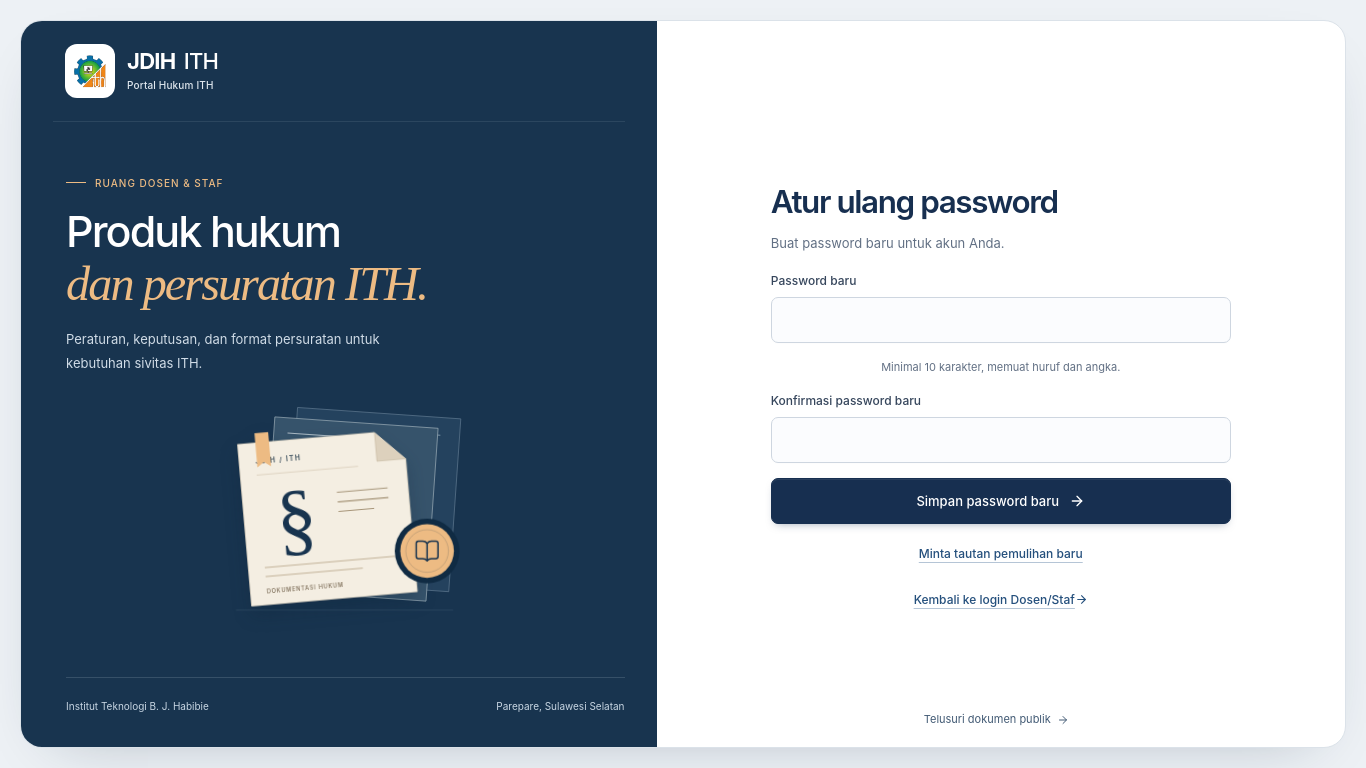
pemulihan password Dosen/Staf › konfirmasi tidak sama tidak mengirim permintaan dan galat server tetap ditampilkan
Type "PasswordBaru123" into the password field labelled "Password baru". click: [1001, 320]
box: [771,297,1231,343]
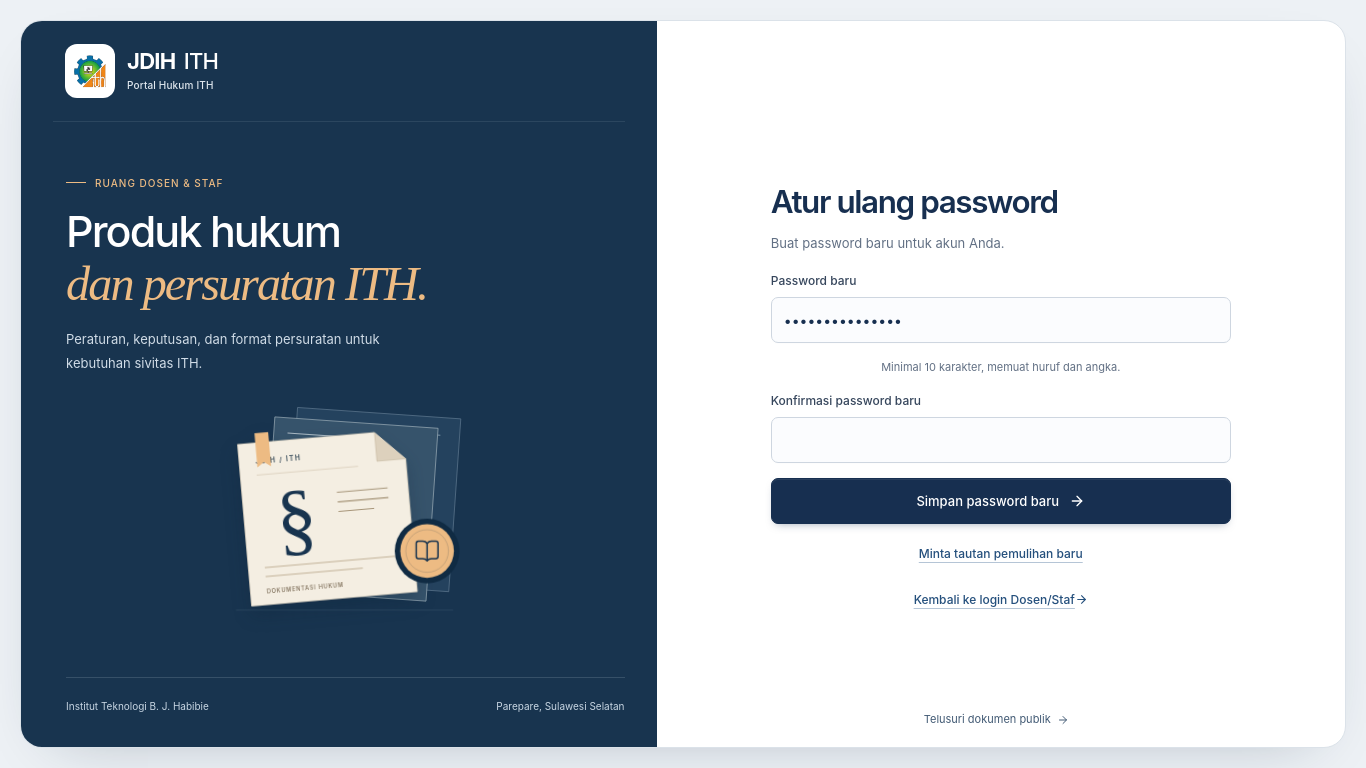
Type "berbeda" into the password field labelled "Konfirmasi password baru". click: [1001, 440]
box: [771,417,1231,463]
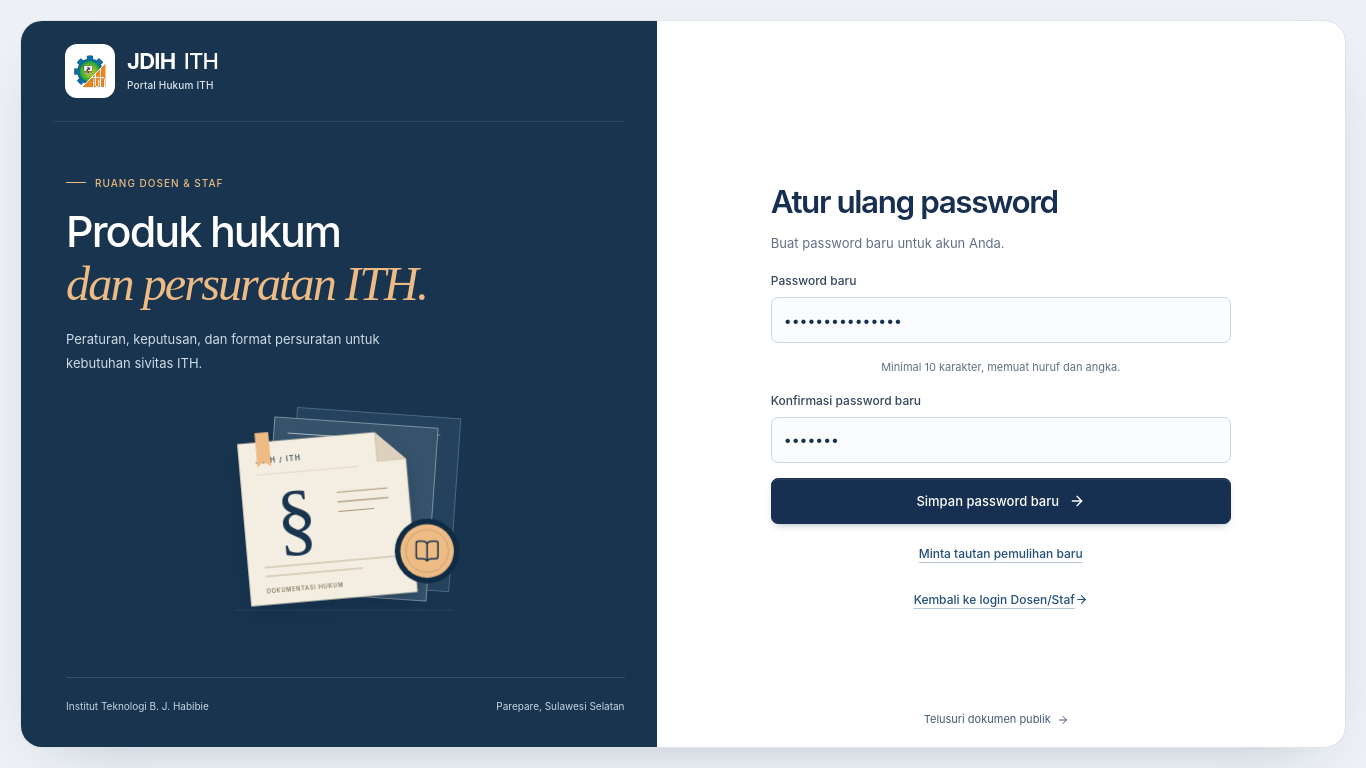
Click the button "Simpan password baru". click: [1001, 501]
box: [771,478,1231,524]
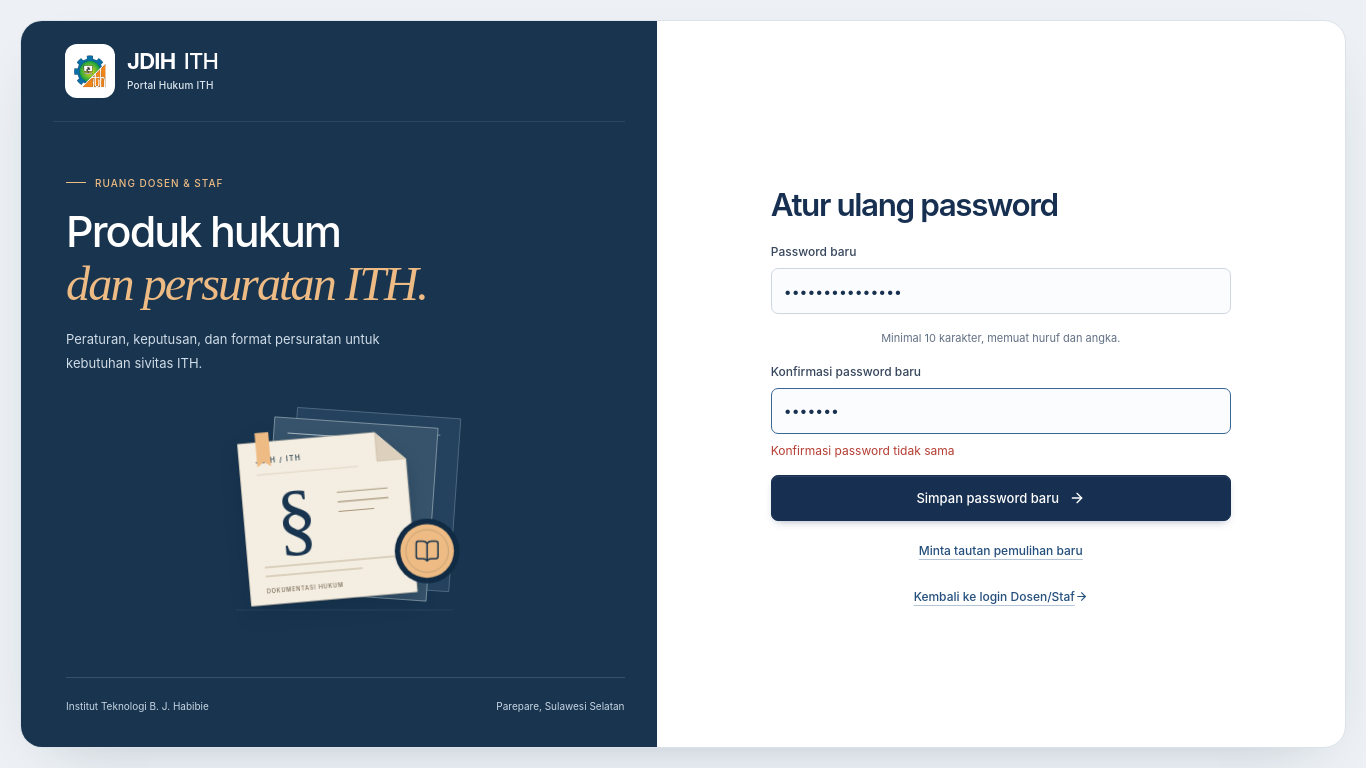
Check: the text "Konfirmasi password tidak sama" is shown, box [771,443,954,458]
Type "PasswordBaru123" into the password field labelled "Konfirmasi password baru". click: [1001, 411]
box: [771,388,1231,434]
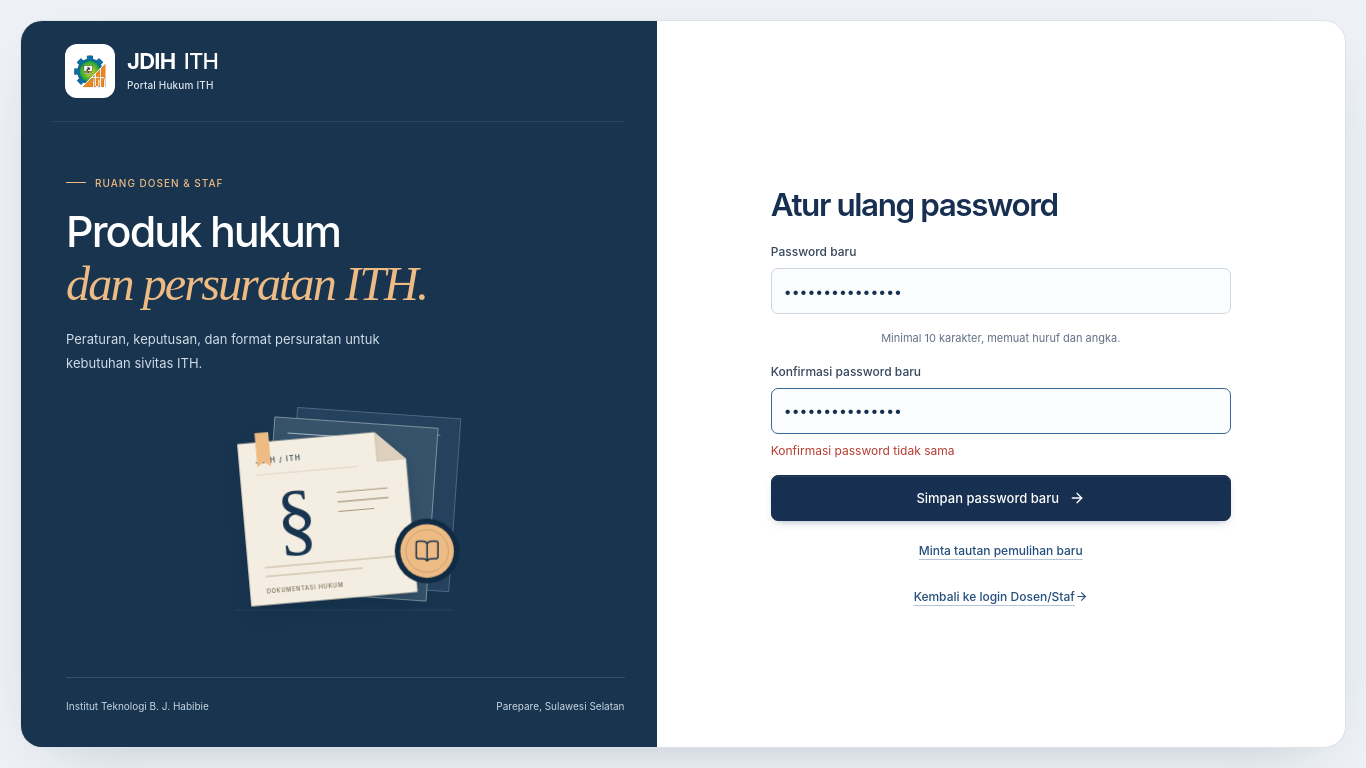
Click the button "Simpan password baru". click: [1001, 498]
box: [771,475,1231,521]
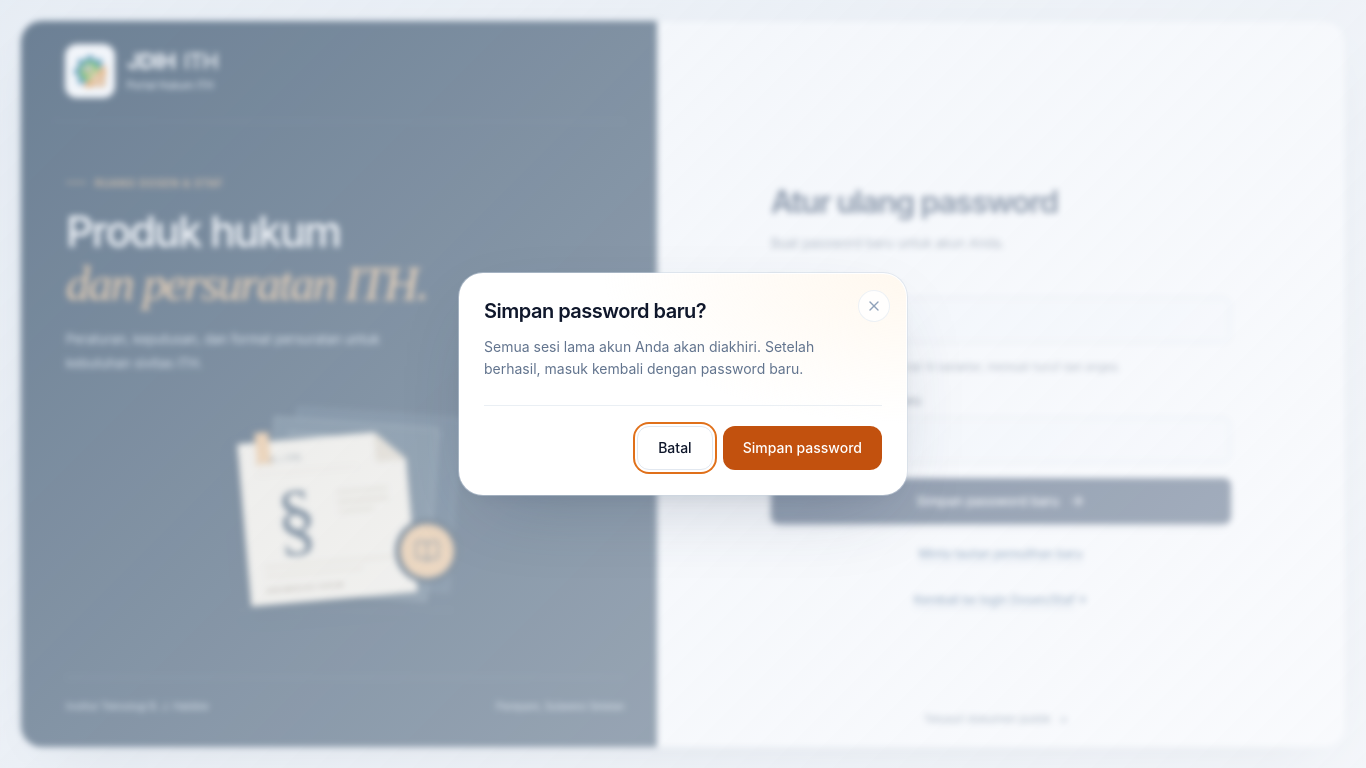
Check: the dialog is shown, box [459,273,907,495]
Click the button "Simpan password". click: [802, 448]
box: [723,426,882,470]
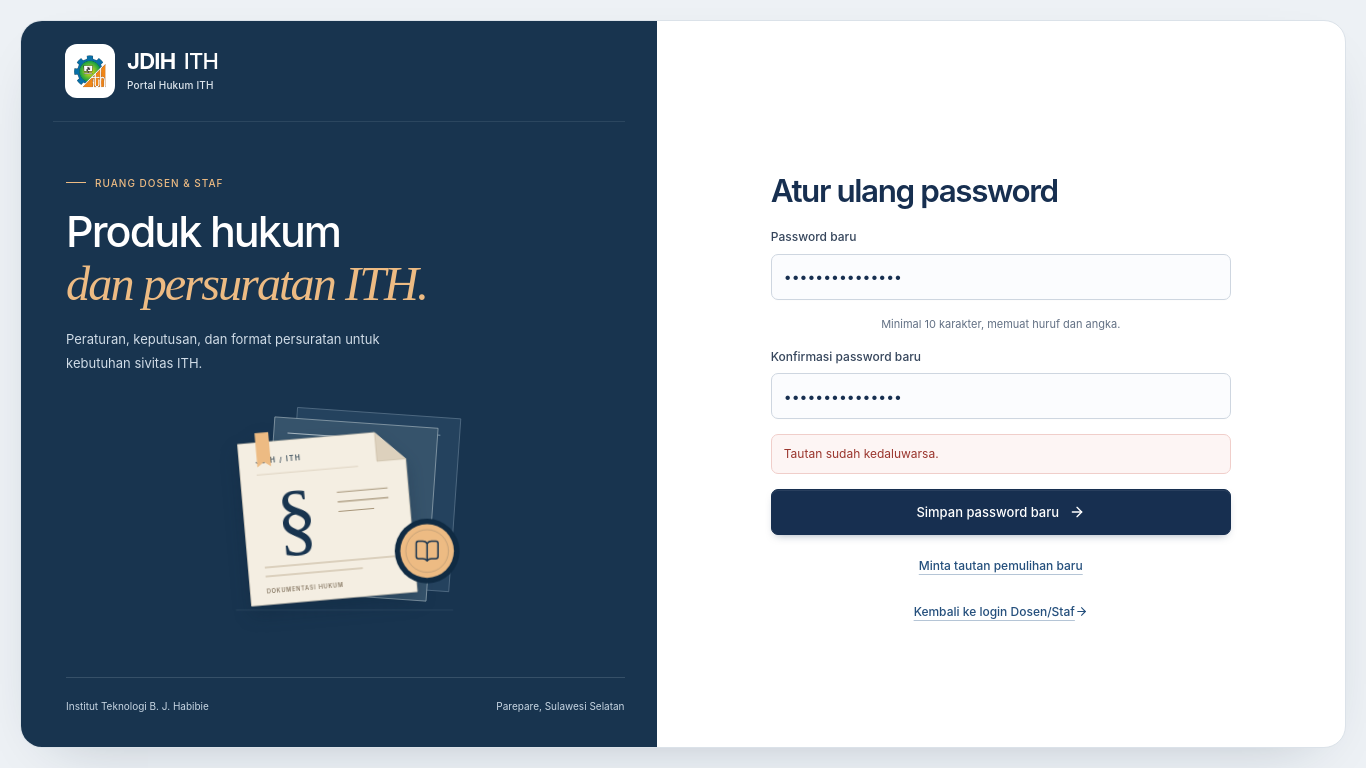
Check: the text "Tautan sudah kedaluwarsa." is shown, box [771,434,1231,474]
